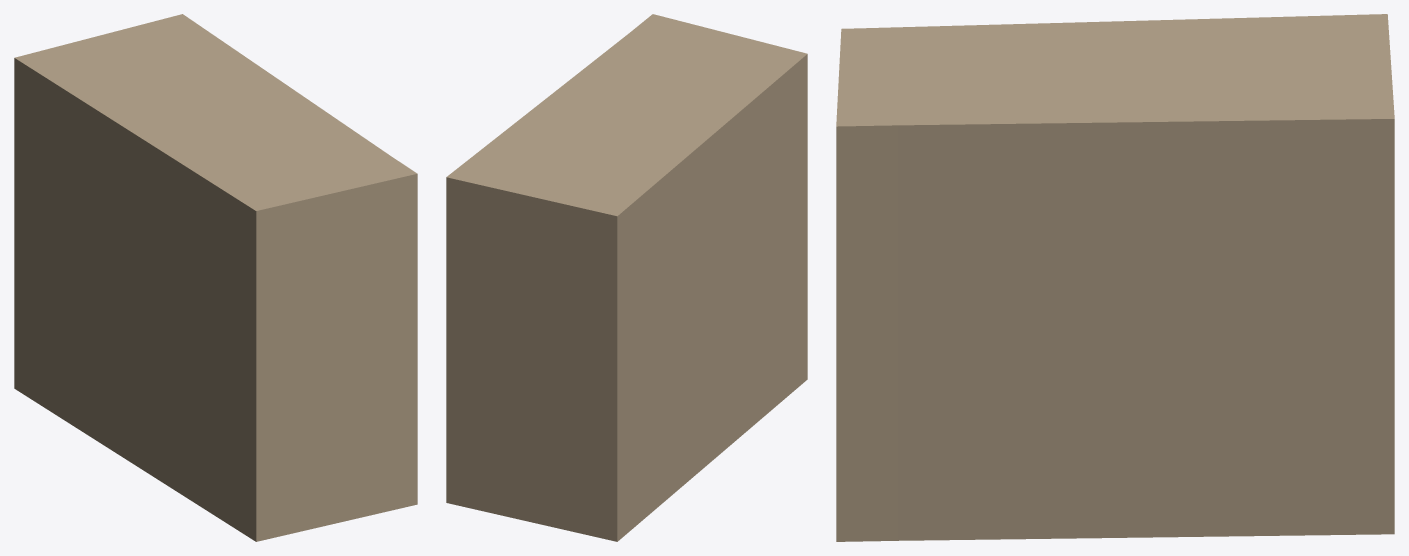
File: bld_99616000.dae
3 renders of one model, left to right at view 1: azimuth 30°, elevation 25°; view 2: azimuth 150°, elevation 25°; view 3: azimuth 270°, elevation 25°, orthographic. The views are drawn at different scales.
Parts seen in each view (by area): view 1: bld_99616000; view 2: bld_99616000; view 3: bld_99616000.
Boxes of the visible parts, x1=… form: bld_99616000: x1=14, y1=14, x2=417, y2=541; bld_99616000: x1=446, y1=14, x2=807, y2=541; bld_99616000: x1=836, y1=14, x2=1394, y2=541.
Bounding box in the file's own units: 4.65 × 9.75 × 8.
